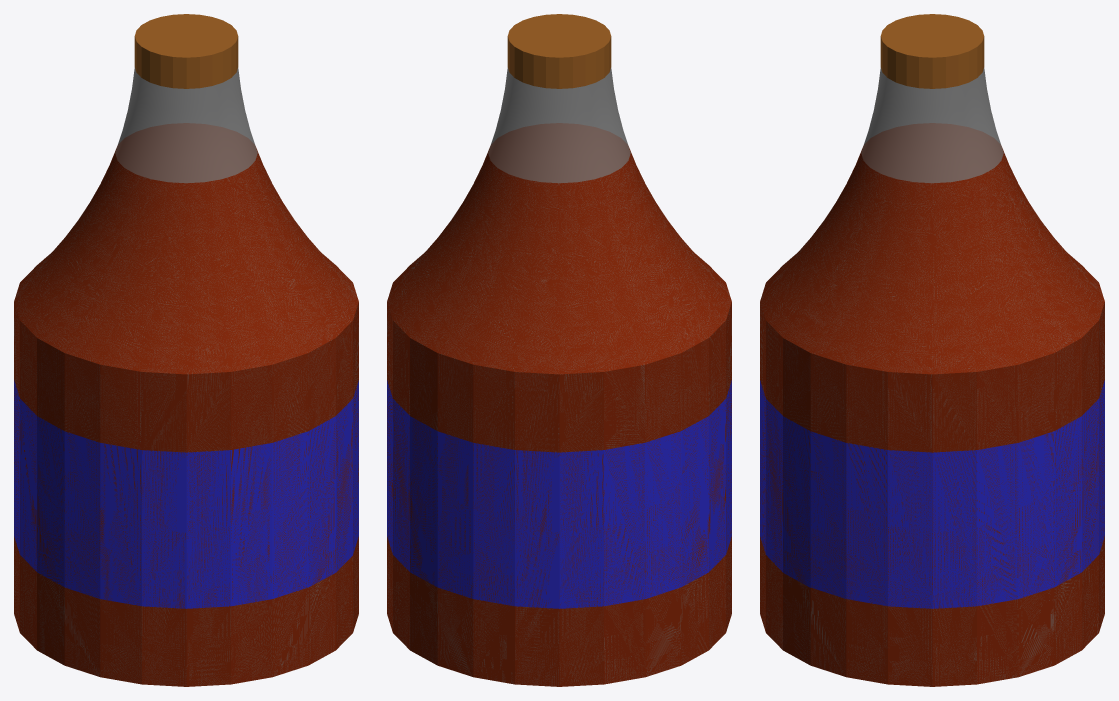
File: syrup.dae
The picture shows the model from 3 angles, left to right: view 1: azimuth 30°, elevation 25°; view 2: azimuth 150°, elevation 25°; view 3: azimuth 270°, elevation 25°; orthographic projection.
Parts seen in each view (by area): view 1: group_0 (×6); view 2: group_0 (×6); view 3: group_0 (×6).
Boxes of the visible parts, x1,y1,x2,y2 form: group_0 (×6): (14,14,358,686); group_0 (×6): (387,14,731,686); group_0 (×6): (760,14,1104,686).
Bounding box in the file's own units: 120 × 120 × 222.
